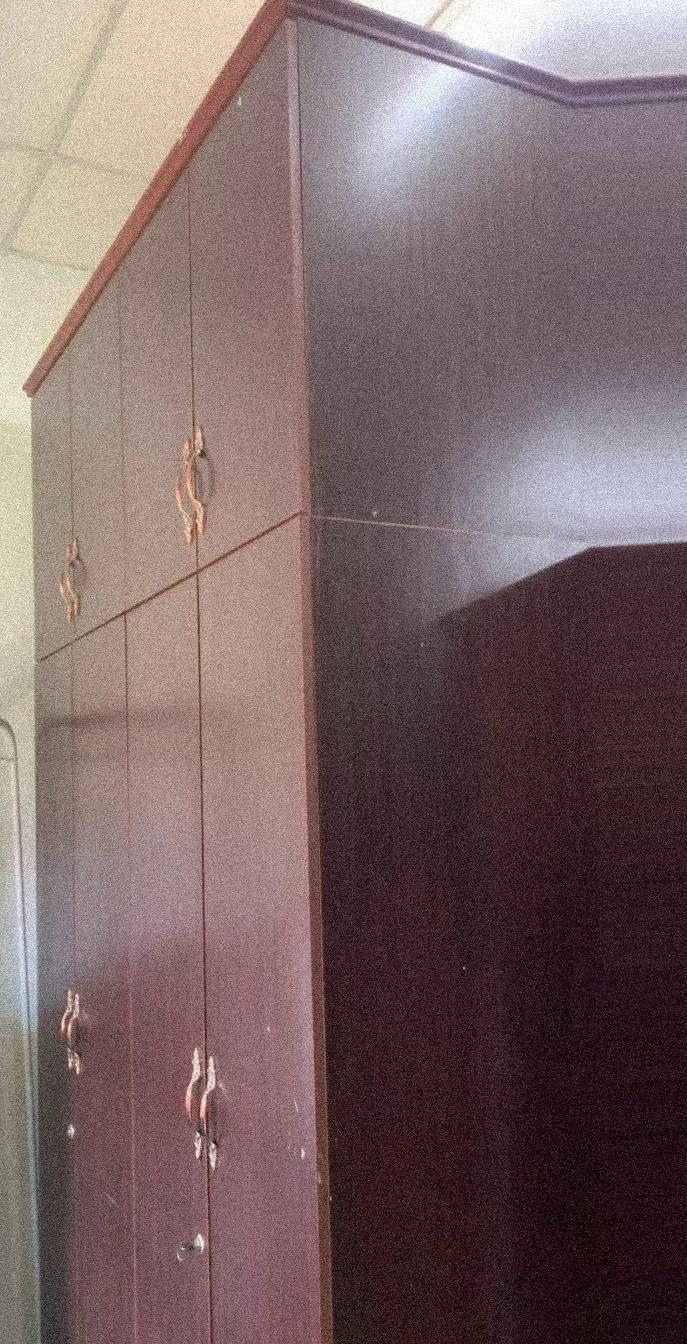Armario: (18, 13, 672, 1335)
